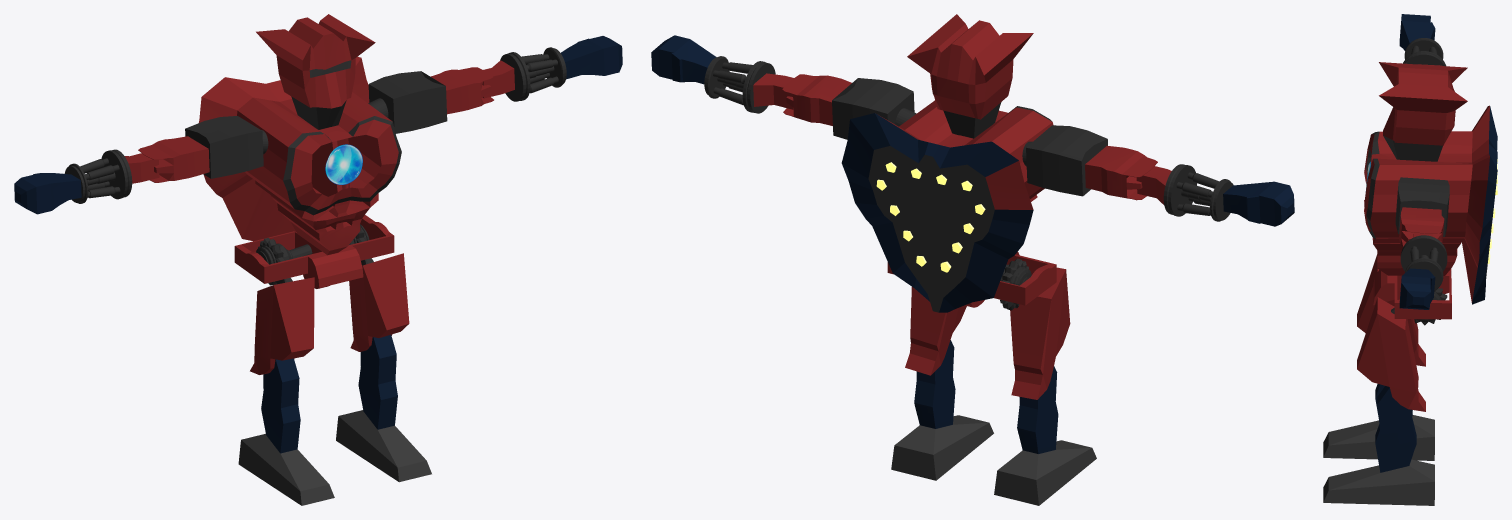
The model's file is robot_rig1.fbx.
The picture shows the model from 3 angles, left to right: view 1: azimuth 30°, elevation 25°; view 2: azimuth 150°, elevation 25°; view 3: azimuth 270°, elevation 25°; orthographic projection. The views are drawn at different scales.
Visible parts, largest first — view 1: robot.001; view 2: robot.001; view 3: robot.001.
Part boxes in pixels (x1,y1,x2,y2): robot.001: (14, 14, 622, 505); robot.001: (651, 14, 1294, 505); robot.001: (1323, 14, 1497, 505).
Size of the model in its own units: 29.43 by 19.98 by 7.82.
6 materials, 3 textured.
